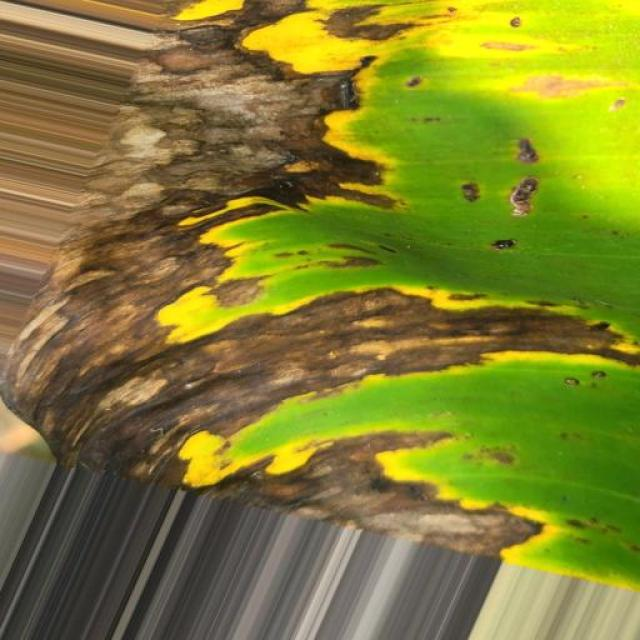Early_rust: (56, 0, 640, 591)
